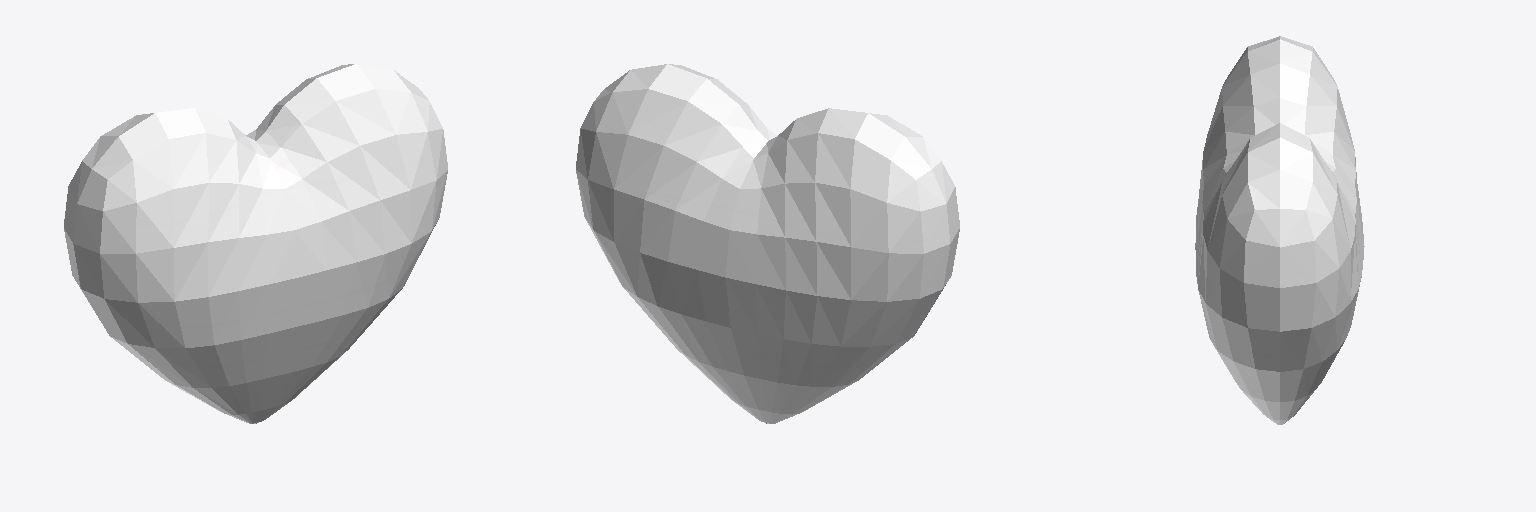
The picture shows the model from 3 angles: view 1: azimuth 30°, elevation 25°; view 2: azimuth 150°, elevation 25°; view 3: azimuth 270°, elevation 25°; orthographic projection.
Visible parts, largest first — view 1: 立方体_立方体.001; view 2: 立方体_立方体.001; view 3: 立方体_立方体.001.
Part boxes in pixels (bbox=[...]): 立方体_立方体.001: bbox=[64, 64, 447, 423]; 立方体_立方体.001: bbox=[576, 64, 959, 423]; 立方体_立方体.001: bbox=[1195, 36, 1364, 424].
Bounding box in the file's own units: 3.62 × 3.17 × 1.45.
Materials: 1 (1 with a texture image).